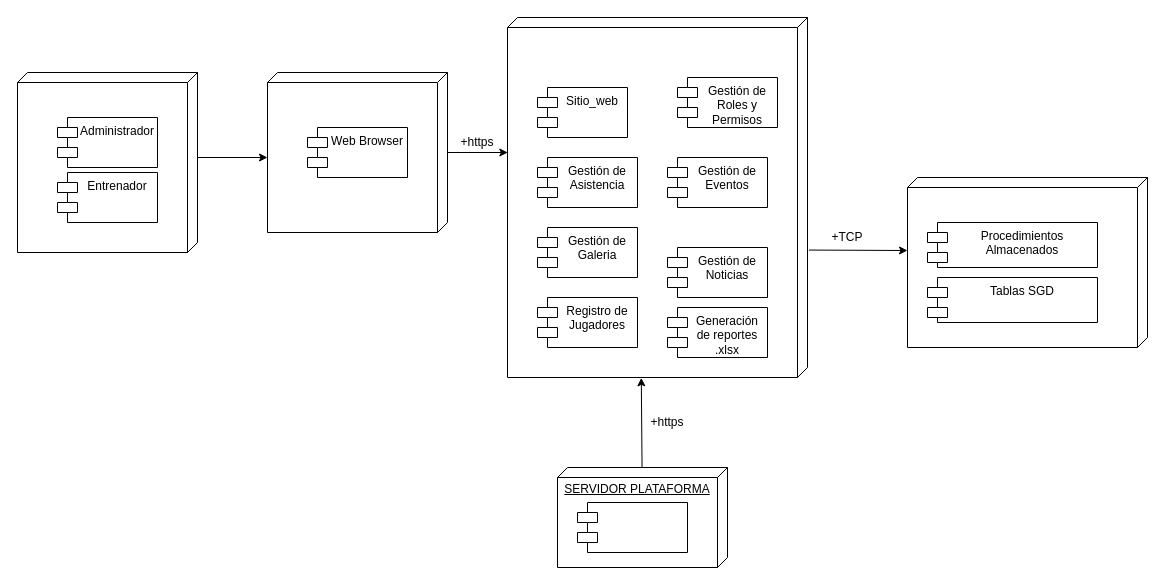
Image size: 1165x585. Some labels were removed from this diagram. Each missing label, with the box of its shape:
<<Device>> SERVIDOR WEB: (506, 16, 808, 378)
BD_ORACLE_19C: (906, 176, 1148, 348)
ESTACIÓN DE TRABAJO: (266, 72, 448, 232)
USUARIOS: (16, 72, 198, 252)
Web services Django (Python): (576, 502, 688, 552)
